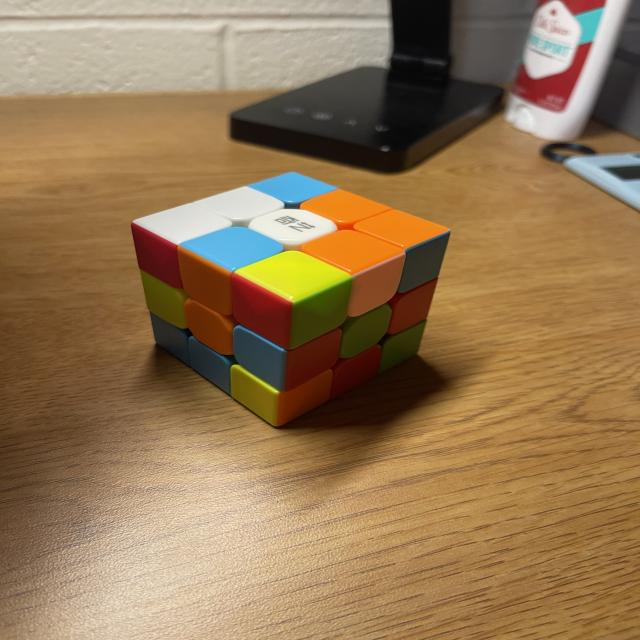Rubiks Cube: (130, 169, 450, 428)
